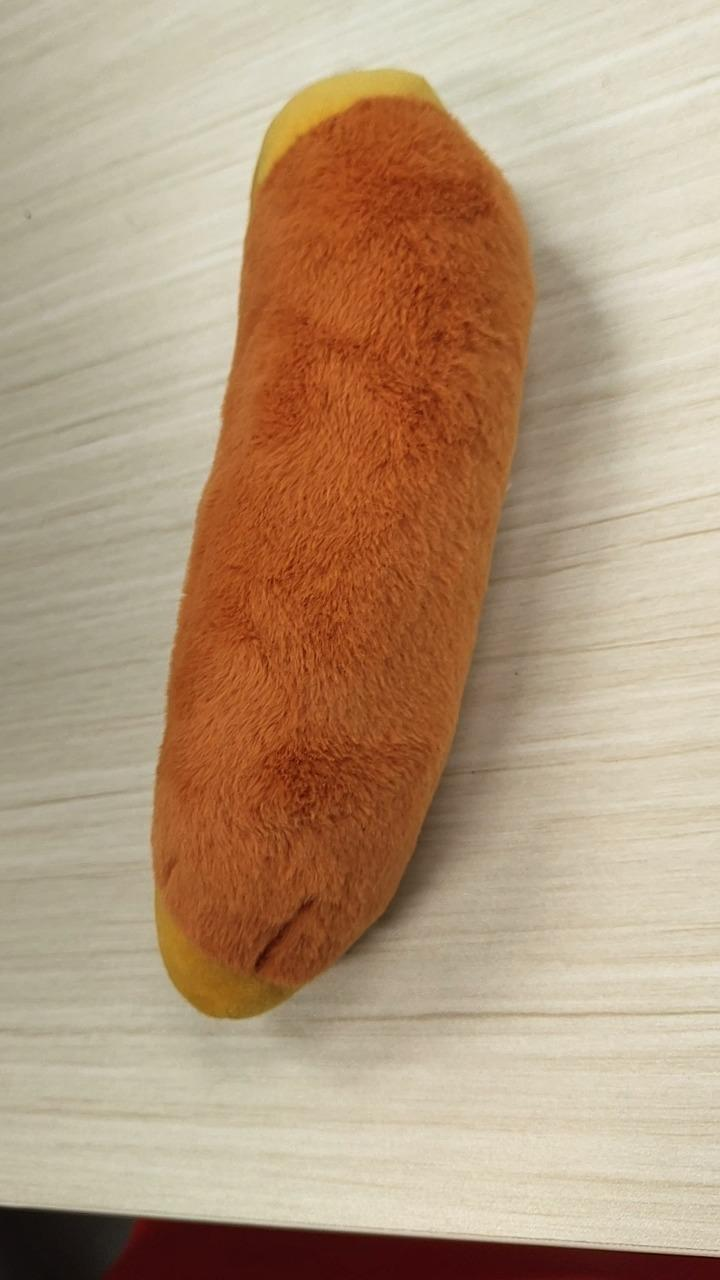hotdog: (149, 65, 536, 1020)
